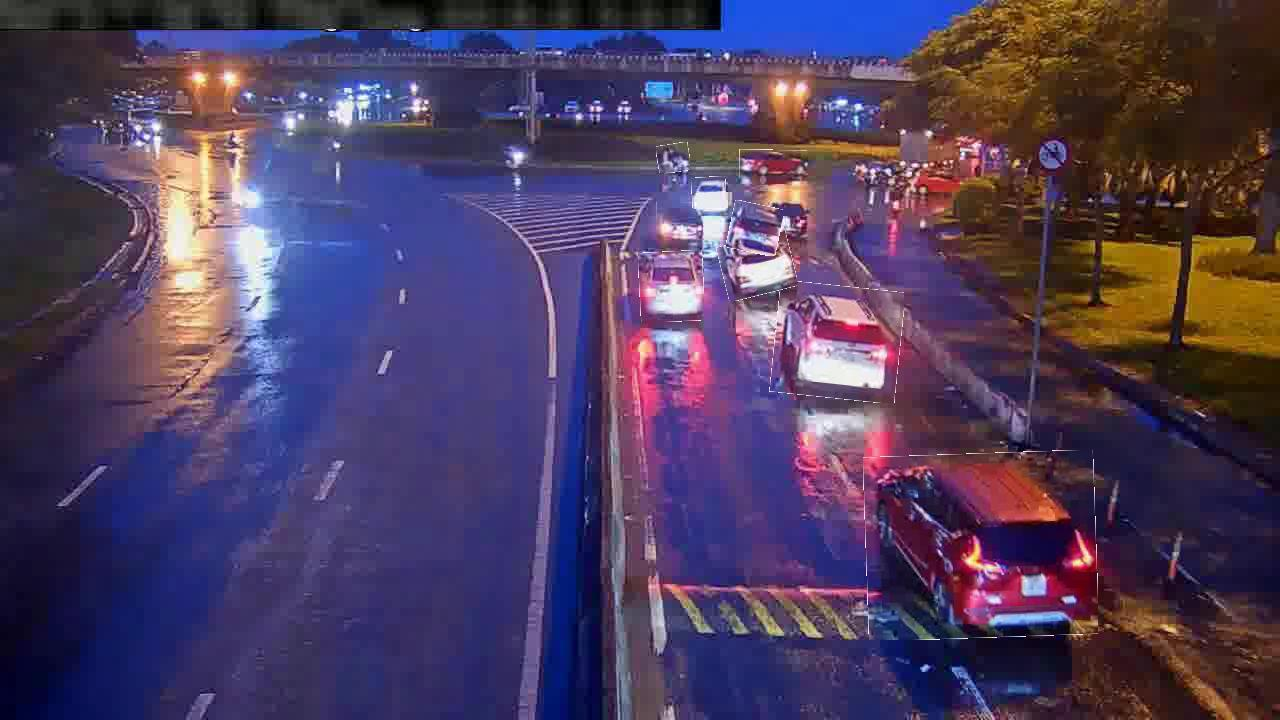container: (864, 452, 1098, 640), (772, 283, 903, 401), (719, 235, 796, 299), (639, 251, 705, 323), (728, 203, 782, 255), (739, 150, 808, 179), (656, 202, 700, 244), (692, 176, 726, 210)
motorbike: (657, 143, 691, 173)
